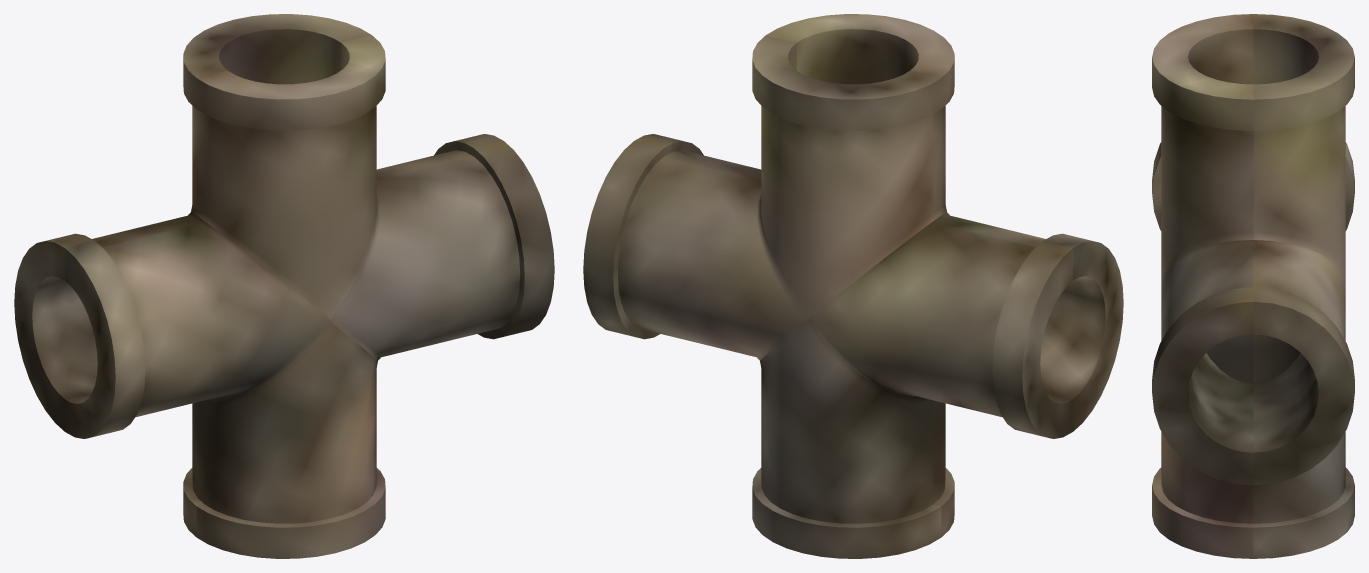
File: pipe-cross.gltf
3 renders of one model, left to right at view 1: azimuth 30°, elevation 25°; view 2: azimuth 150°, elevation 25°; view 3: azimuth 270°, elevation 25°, orthographic.
Visible parts, largest first — view 1: Pipe_2; view 2: Pipe_2; view 3: Pipe_2.
Part boxes in pixels (left/top/right/bottom): Pipe_2: left=14, top=14, right=554, bottom=558; Pipe_2: left=583, top=14, right=1123, bottom=558; Pipe_2: left=1152, top=14, right=1354, bottom=558.
Bounding box in the file's own units: 0.7028 × 0.7028 × 0.2811.
Materials: 1 (1 with a texture image).
